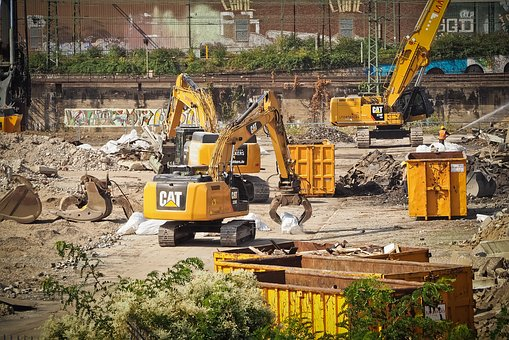excavator: (138, 88, 318, 250), (324, 1, 453, 150), (138, 71, 272, 204)
